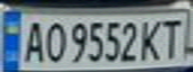2: (118, 18, 142, 63)
5: (84, 18, 106, 63), (103, 18, 124, 63)
9: (66, 18, 87, 63)
A: (18, 17, 48, 63)
K: (139, 16, 166, 62)
O: (42, 18, 69, 64)
T: (157, 16, 187, 61)
